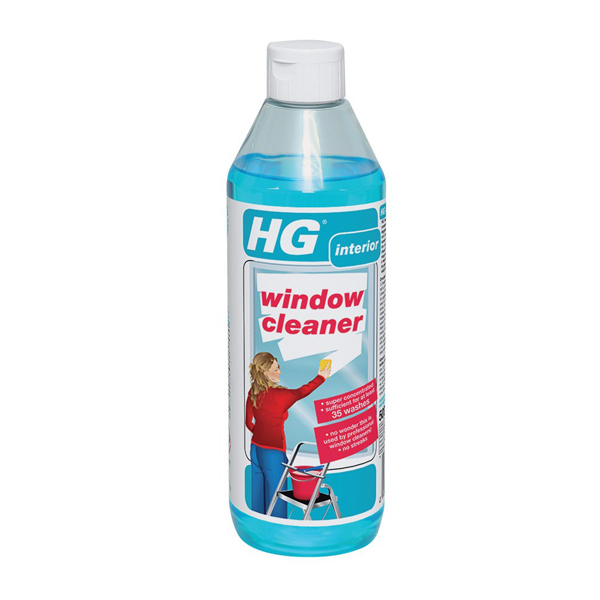Cleaning_solution: (221, 33, 391, 558)
